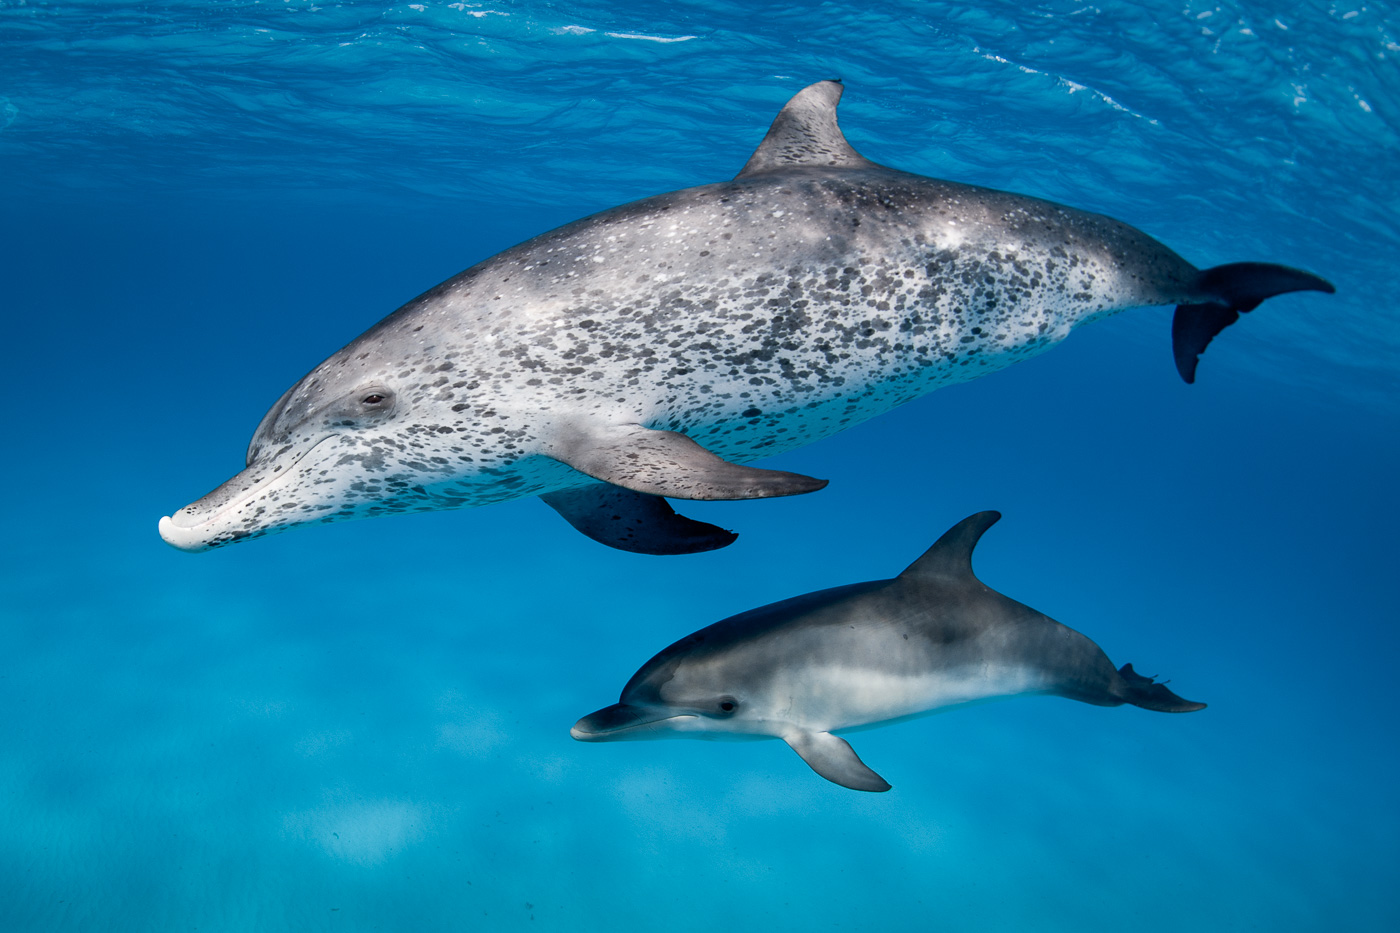dolphin: (134, 65, 1323, 571), (577, 500, 1234, 821)
